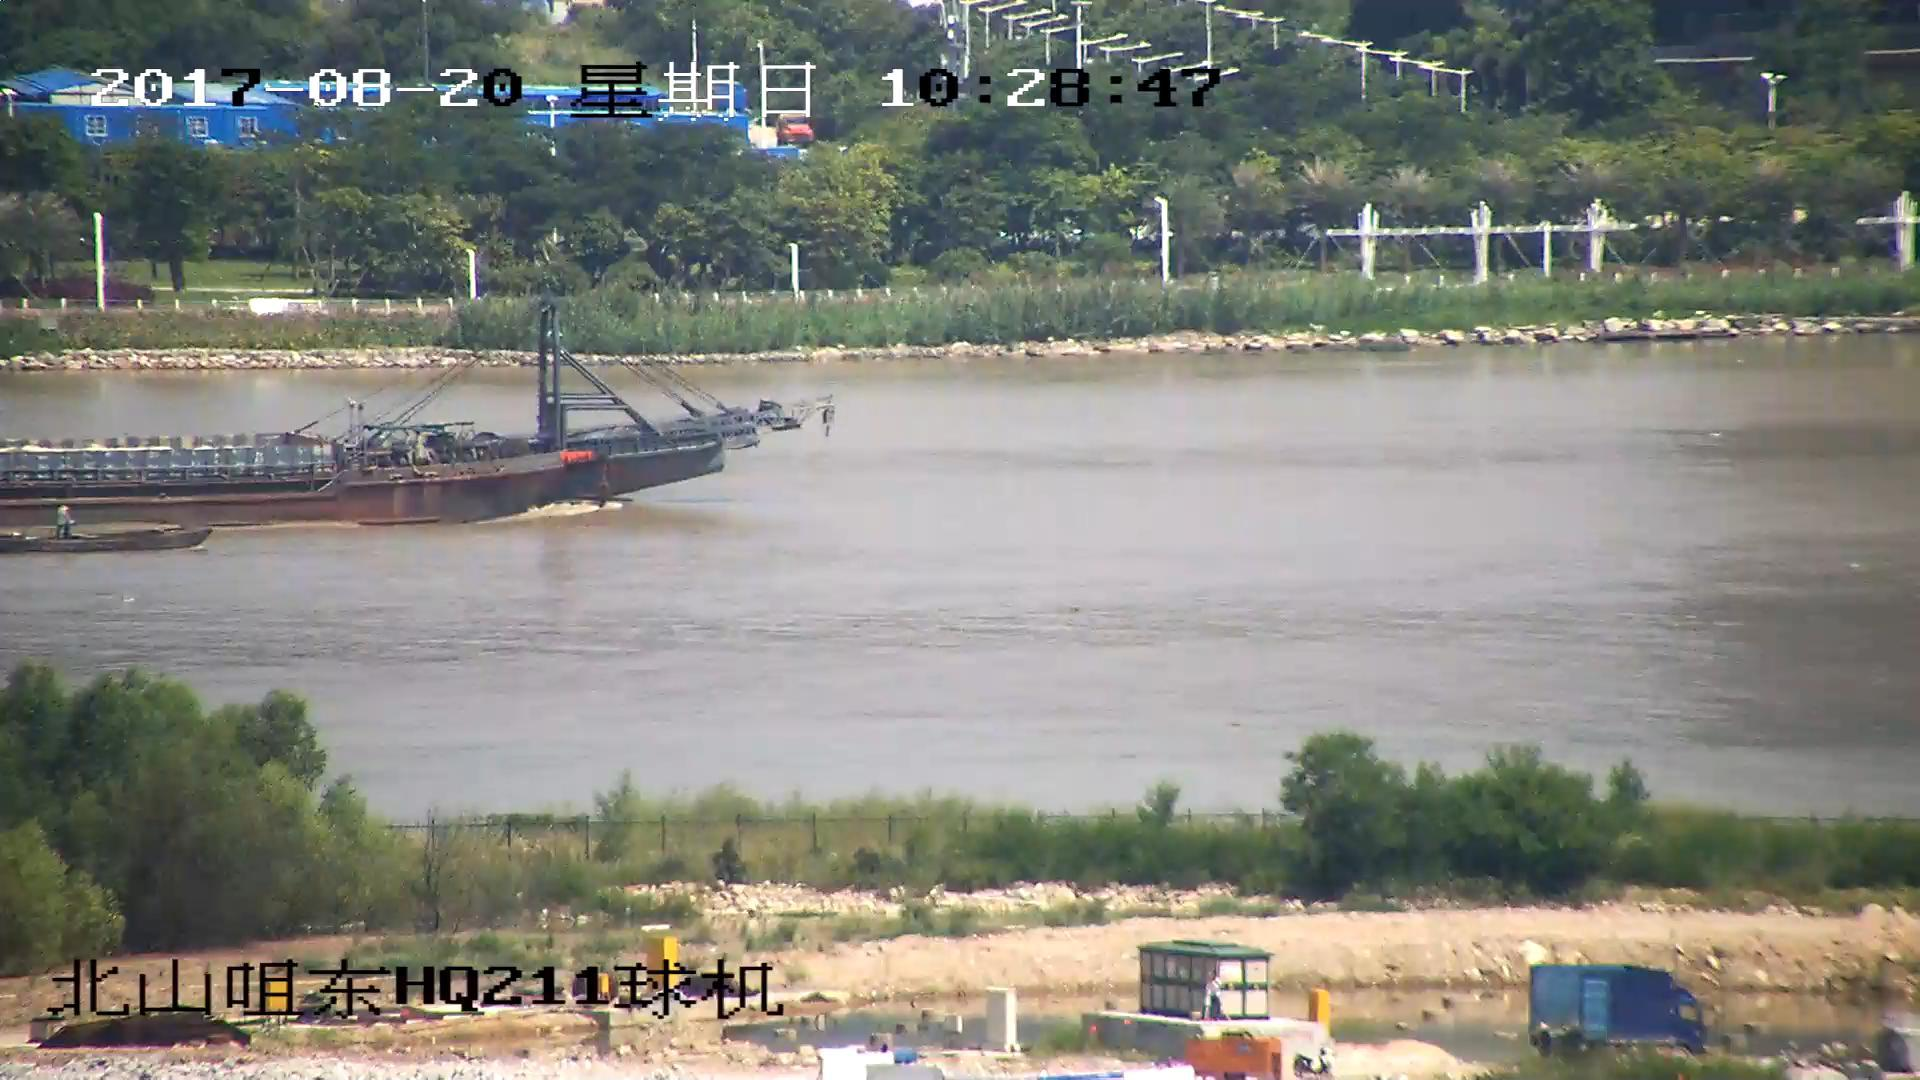Ship: (3, 291, 836, 525), (3, 509, 215, 560)
